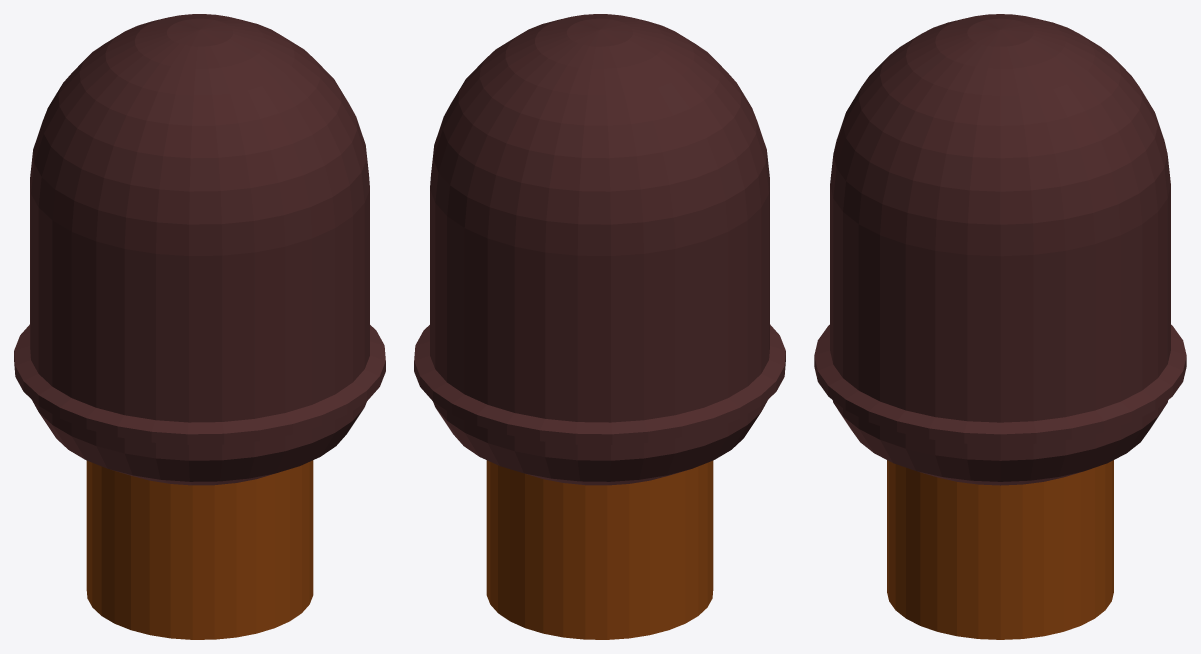
Rendered from norq_1.obj.
3 renders of one model, left to right at view 1: azimuth 30°, elevation 25°; view 2: azimuth 150°, elevation 25°; view 3: azimuth 270°, elevation 25°, orthographic.
Visible parts, largest first — view 1: norq-1; view 2: norq-1; view 3: norq-1.
Boxes of the visible parts, left/top/right/bottom form: norq-1: left=14, top=14, right=385, bottom=639; norq-1: left=414, top=14, right=785, bottom=639; norq-1: left=814, top=14, right=1186, bottom=639.
Size of the model in its own units: 0.996 by 1.66 by 0.996.
